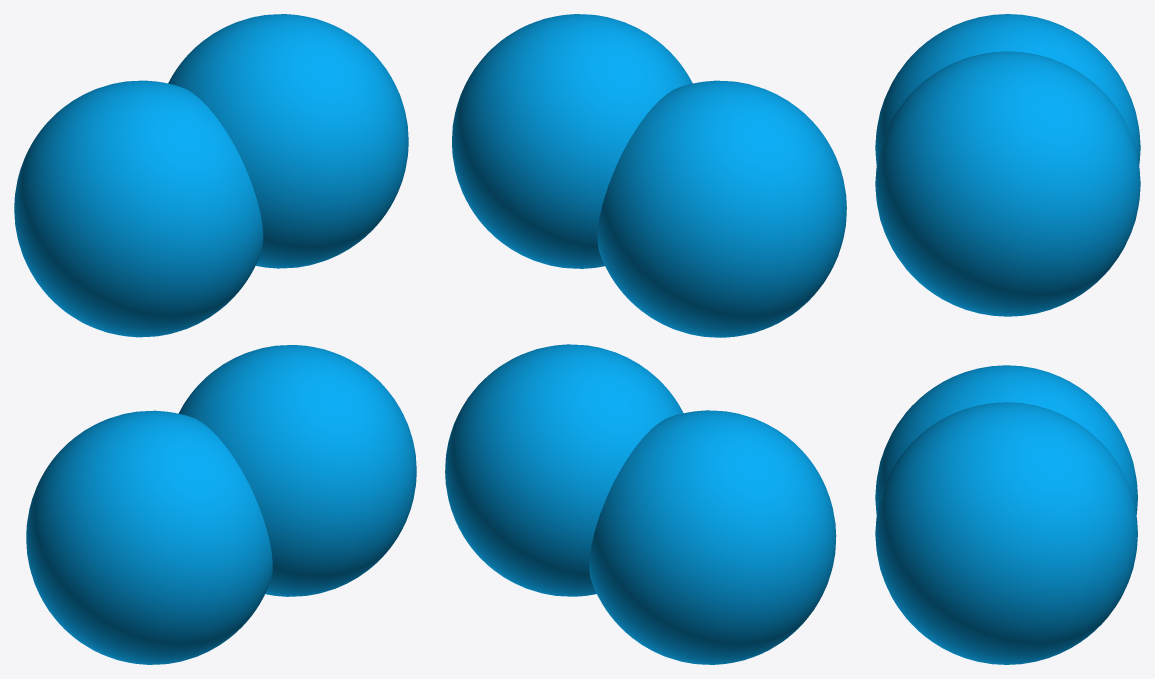
The model's file is pattern_hydrogen.glb.
The picture shows the model from 3 angles, left to right: view 1: azimuth 30°, elevation 25°; view 2: azimuth 150°, elevation 25°; view 3: azimuth 270°, elevation 25°; orthographic projection. The views are drawn at different scales.
Parts seen in each view (by area): view 1: mesh_id101, mesh_id88, mesh_id102, mesh_id89; view 2: mesh_id101, mesh_id88, mesh_id102, mesh_id89; view 3: mesh_id102, mesh_id89, mesh_id101, mesh_id88.
Boxes of the visible parts, x1,y1,x2,y2 form: mesh_id101: [14, 80, 263, 337]; mesh_id88: [26, 410, 272, 664]; mesh_id102: [168, 14, 408, 268]; mesh_id89: [178, 345, 416, 596]; mesh_id101: [597, 80, 846, 337]; mesh_id88: [589, 410, 836, 664]; mesh_id102: [452, 14, 692, 268]; mesh_id89: [445, 344, 683, 596]; mesh_id102: [875, 51, 1140, 316]; mesh_id89: [875, 402, 1137, 664]; mesh_id101: [875, 14, 1140, 165]; mesh_id88: [875, 365, 1137, 514].
Size of the model in its own units: 0.3094 by 0.4782 by 0.1854.
Materials: 2 (2 with a texture image).
